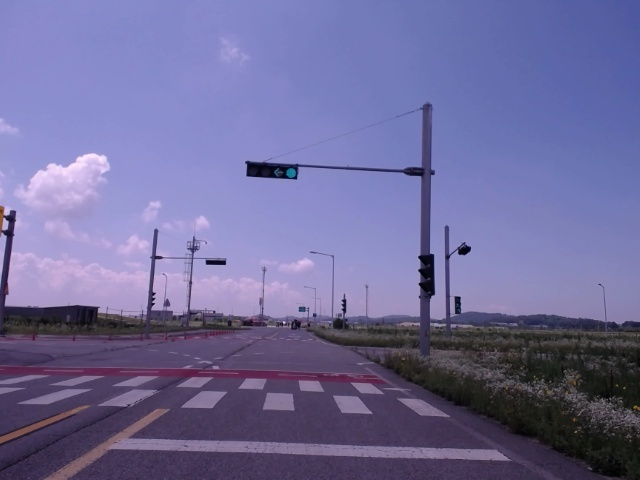all_green_4: (247, 163, 301, 180)
